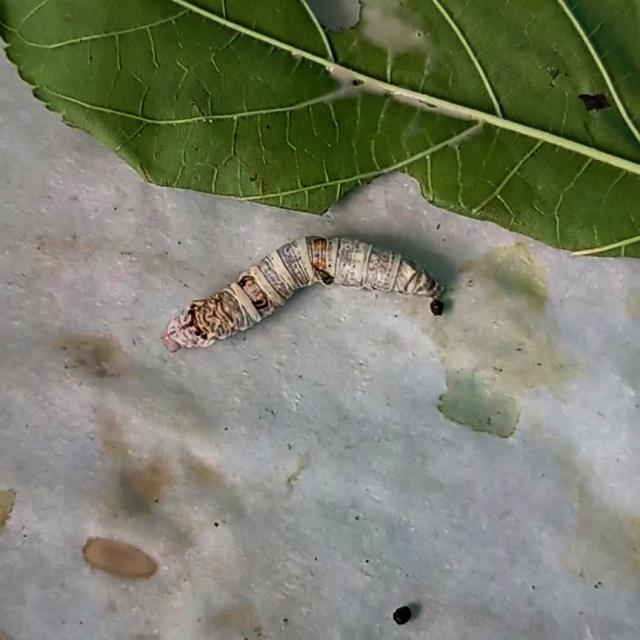Grasserie: (156, 210, 454, 378)
